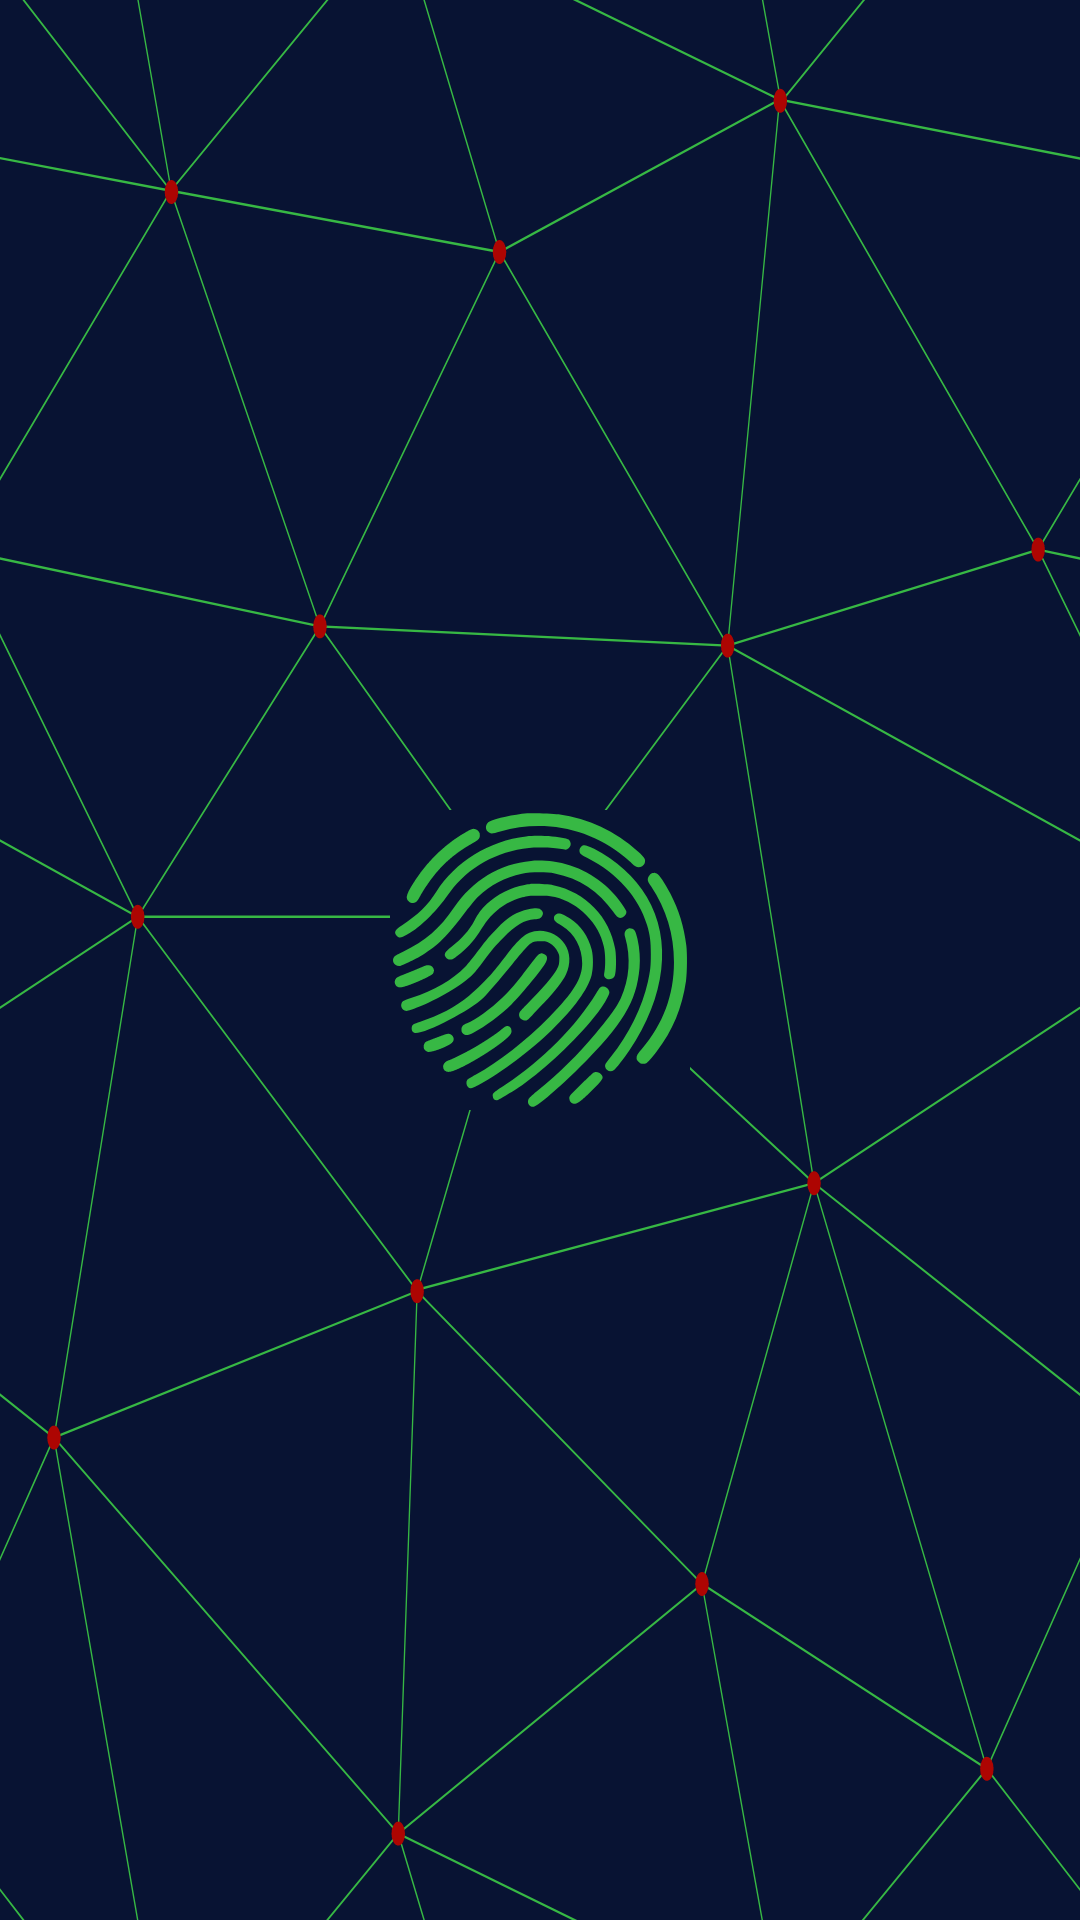

Point at icon controls on the screen. Image size 1080 x 1920, points as [x,y].
fingerprint: [540,960]
